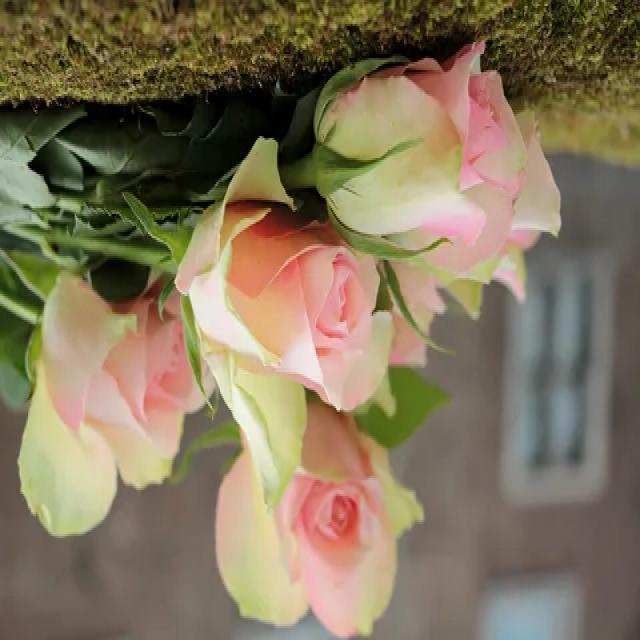rose: (164, 190, 388, 400)
